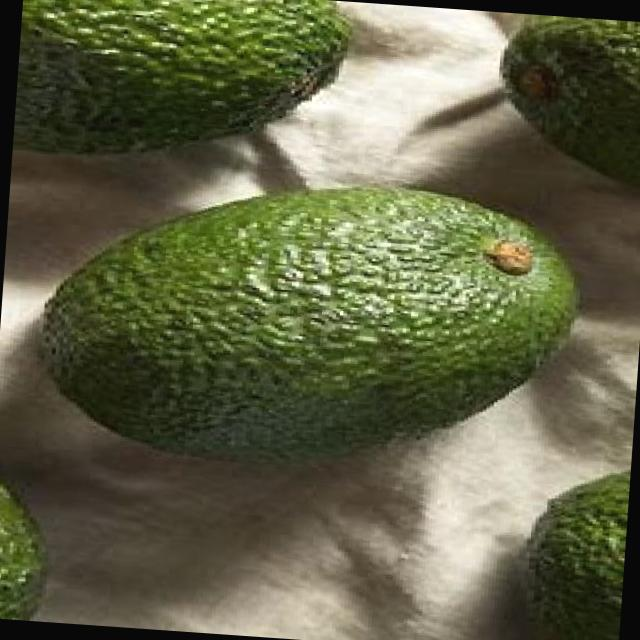avocado: (26, 165, 587, 487)
